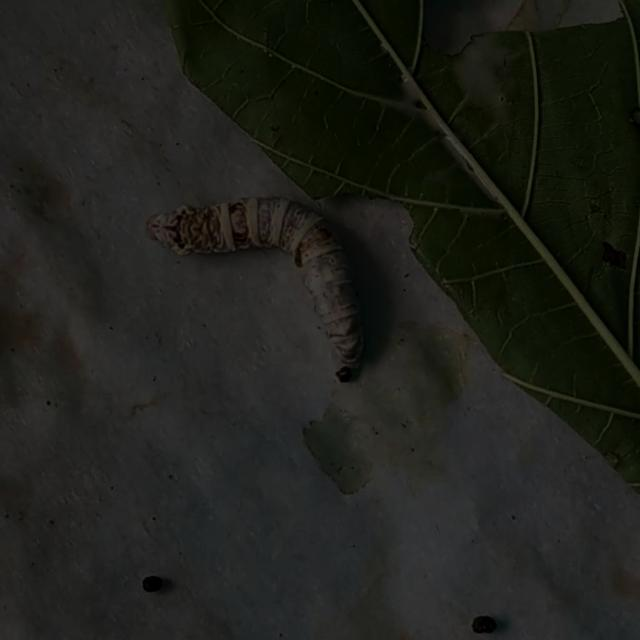Grasserie: (128, 164, 412, 410)
